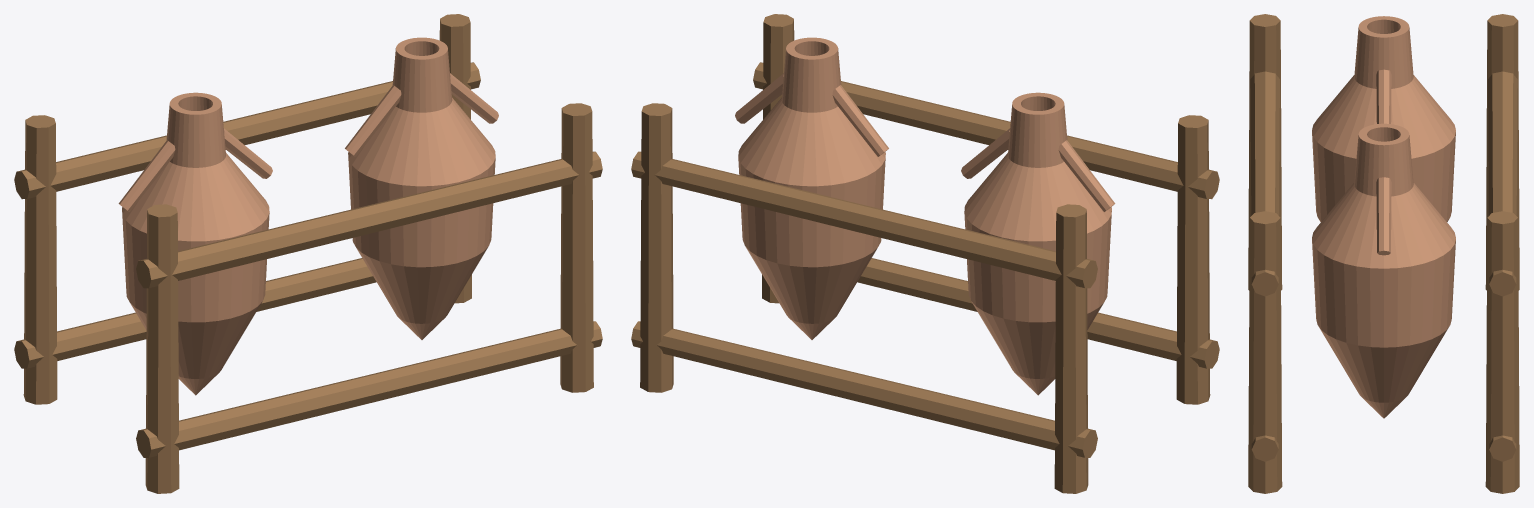
3 renders of one model, left to right at view 1: azimuth 30°, elevation 25°; view 2: azimuth 150°, elevation 25°; view 3: azimuth 270°, elevation 25°, orthographic. The views are drawn at different scales.
Visible parts, largest first — view 1: CE-037 Pointed-amphora transport rack batched; view 2: CE-037 Pointed-amphora transport rack batched; view 3: CE-037 Pointed-amphora transport rack batched.
Boxes of the visible parts, x1,y1,x2,y2 form: CE-037 Pointed-amphora transport rack batched: (14,14,602,493); CE-037 Pointed-amphora transport rack batched: (631,14,1219,493); CE-037 Pointed-amphora transport rack batched: (1248,14,1519,493).
Size of the model in its own units: 1.2 by 0.8 by 0.64.
